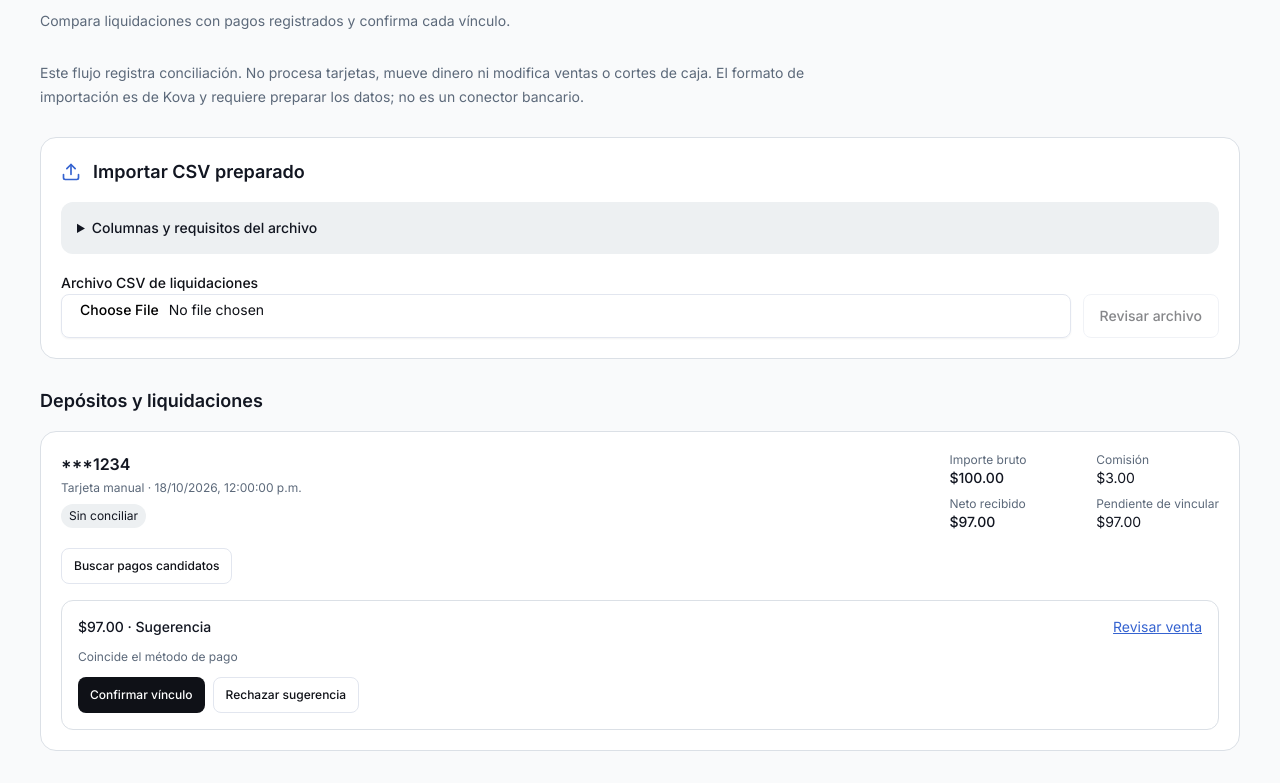
Scenario: reloads a conflicting match without automatically confirming again
(page scrolled)
Click the button "Confirmar vínculo" at x=141, y=695, box [78,677,204,713]
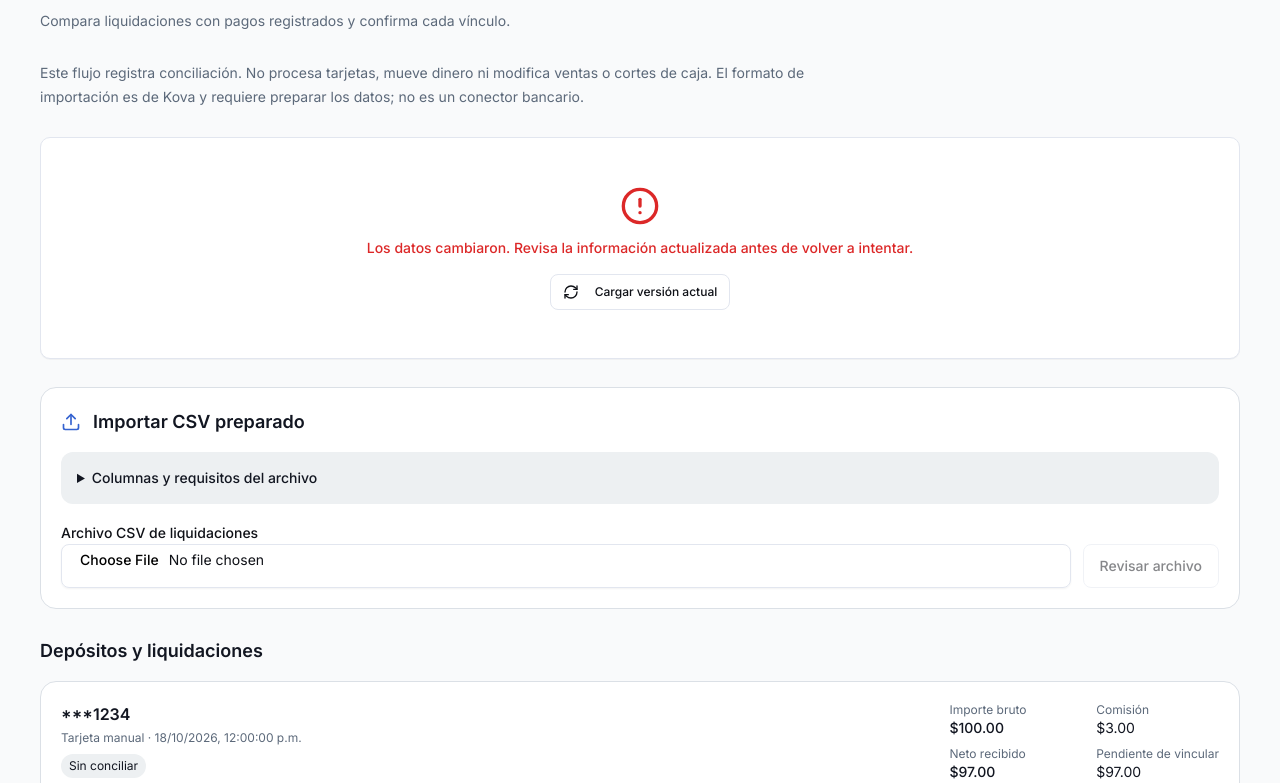
Expected: the message shows "Los datos cambiaron", [367,239,913,256]
